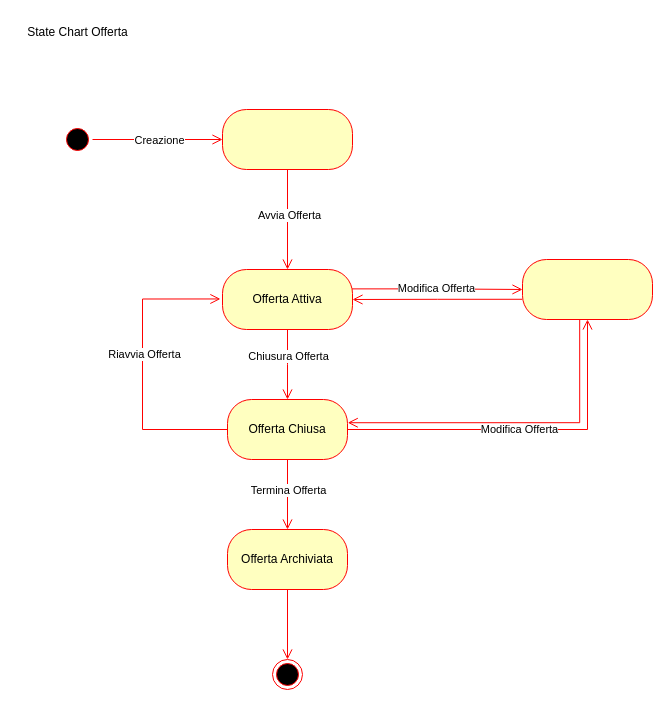
This 670x707 diagram has some shape labels left out. The shapes that lost their labels are listed below. From the top down, each one's centre as x and y in pixels, then its label:
At (287,139): "Offerta in Compilazione".
At (587,289): "Cambiamento Parametri".
